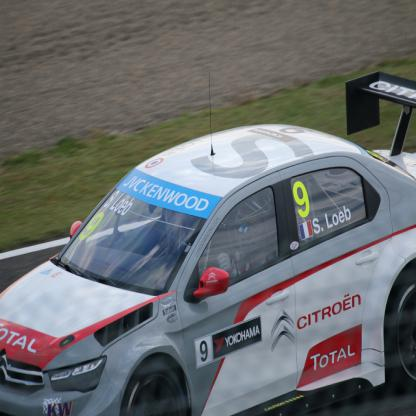Car: (0, 71, 416, 416)
